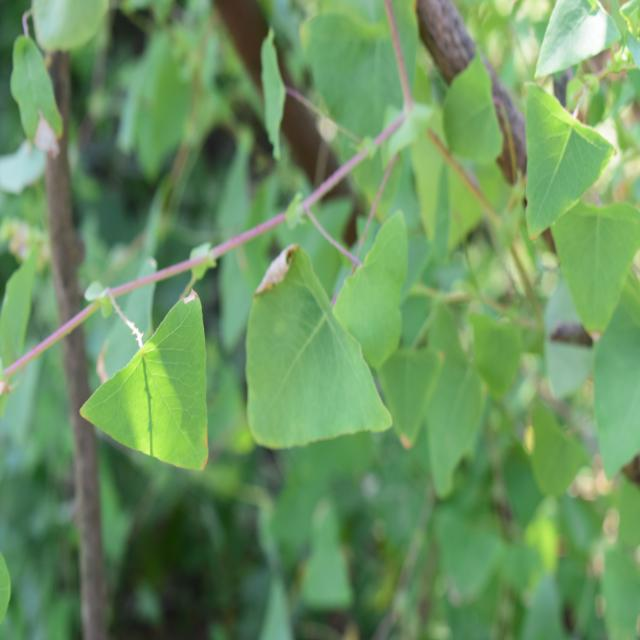Asiatic_Smartweed: (228, 200, 413, 449), (70, 259, 214, 486), (520, 70, 628, 339)
